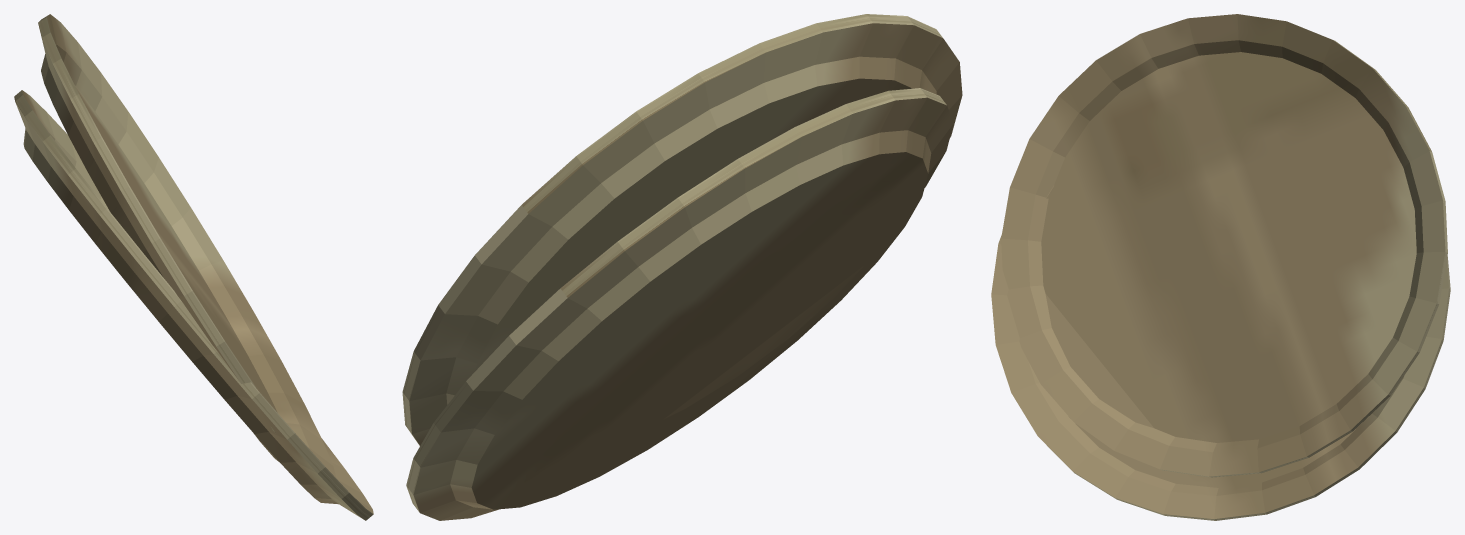
The model's file is SM_plates1.fbx.
3 views of the same model, side by side, from view 1: azimuth 30°, elevation 25°; view 2: azimuth 150°, elevation 25°; view 3: azimuth 270°, elevation 25° (orthographic). The views are drawn at different scales.
Visible parts, largest first — view 1: SM_plate; view 2: SM_plate; view 3: SM_plate.
Boxes of the visible parts, x1=… form: SM_plate: x1=14, y1=14, x2=373, y2=520; SM_plate: x1=402, y1=14, x2=962, y2=520; SM_plate: x1=991, y1=14, x2=1450, y2=520.
Bounding box in the file's own units: 14.38 × 21.32 × 22.26.
